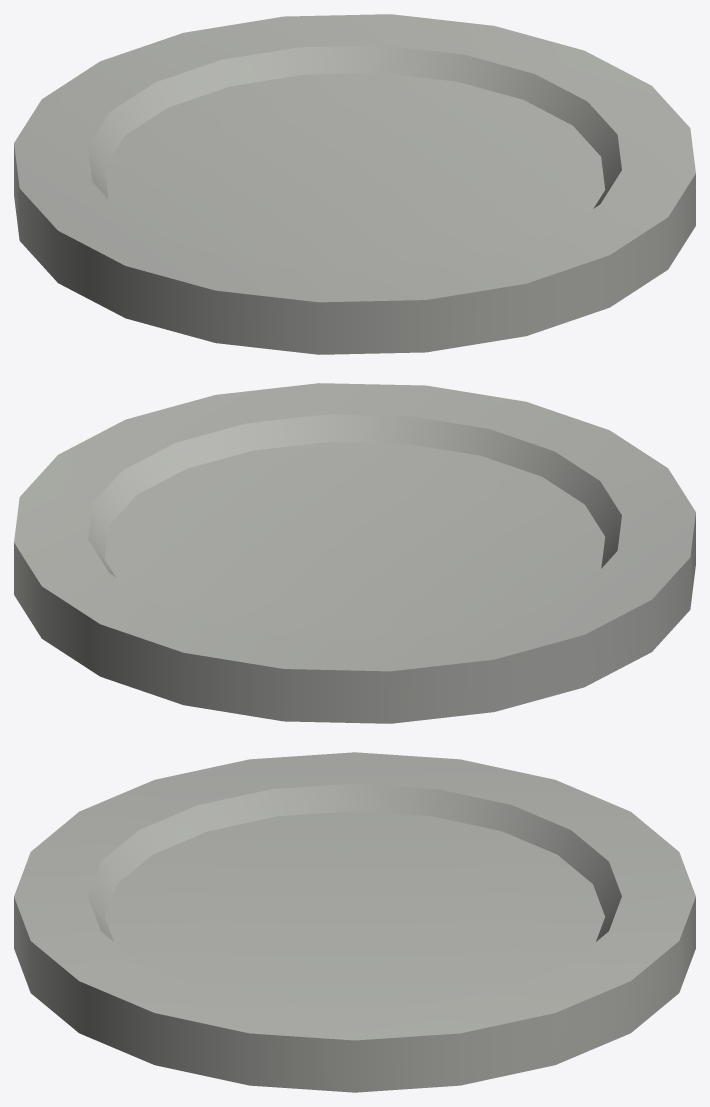
File: pool.fbx
3 views of the same model, one above another, from view 1: azimuth 30°, elevation 25°; view 2: azimuth 150°, elevation 25°; view 3: azimuth 270°, elevation 25° (orthographic).
Visible parts, largest first — view 1: pool; view 2: pool; view 3: pool.
Boxes of the visible parts, box(x1,y1,x2,y2) form: pool: box(14, 14, 695, 354); pool: box(14, 383, 695, 723); pool: box(14, 752, 695, 1092).
Bounding box in the file's own units: 108 × 9.1 × 108.
